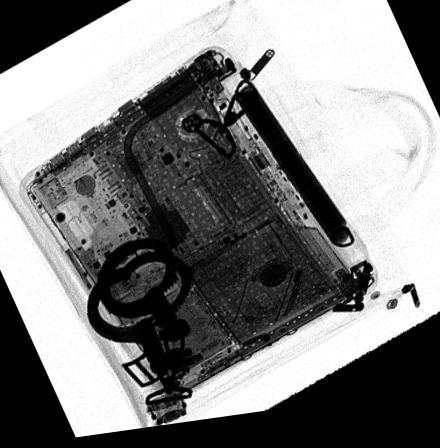HandCuffs: (85, 240, 195, 411)
